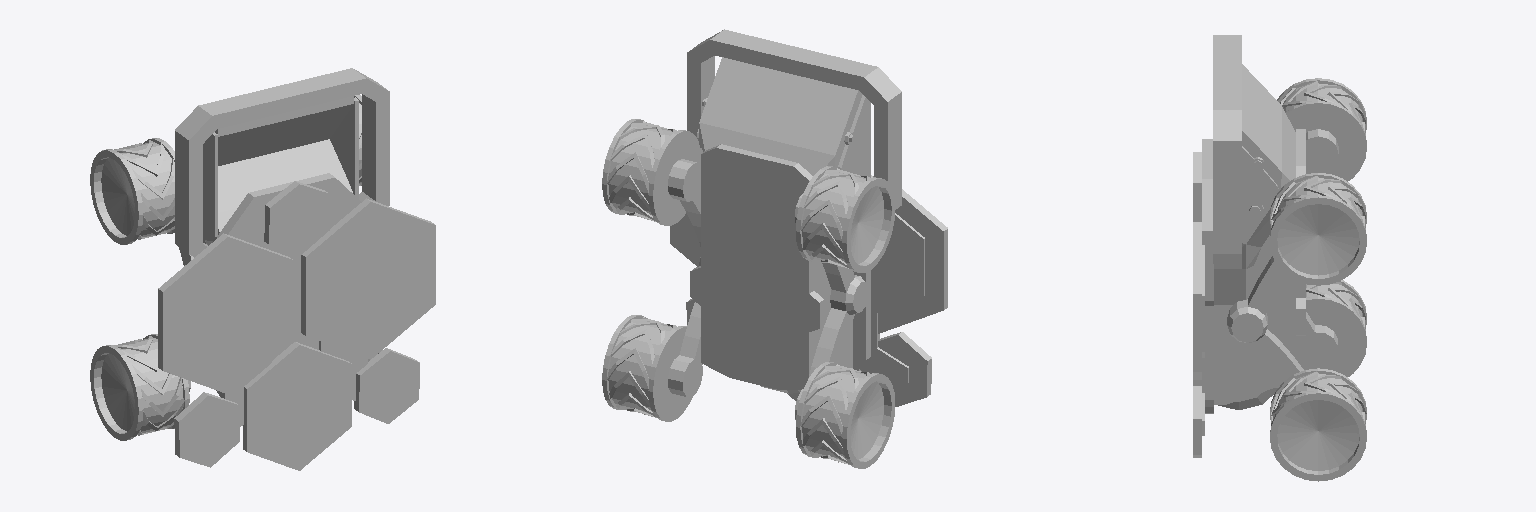
The model's file is rover.obj.
The picture shows the model from 3 angles: view 1: azimuth 30°, elevation 25°; view 2: azimuth 150°, elevation 25°; view 3: azimuth 270°, elevation 25°; orthographic projection.
Bounding box in the file's own units: 880 × 1127 × 486.